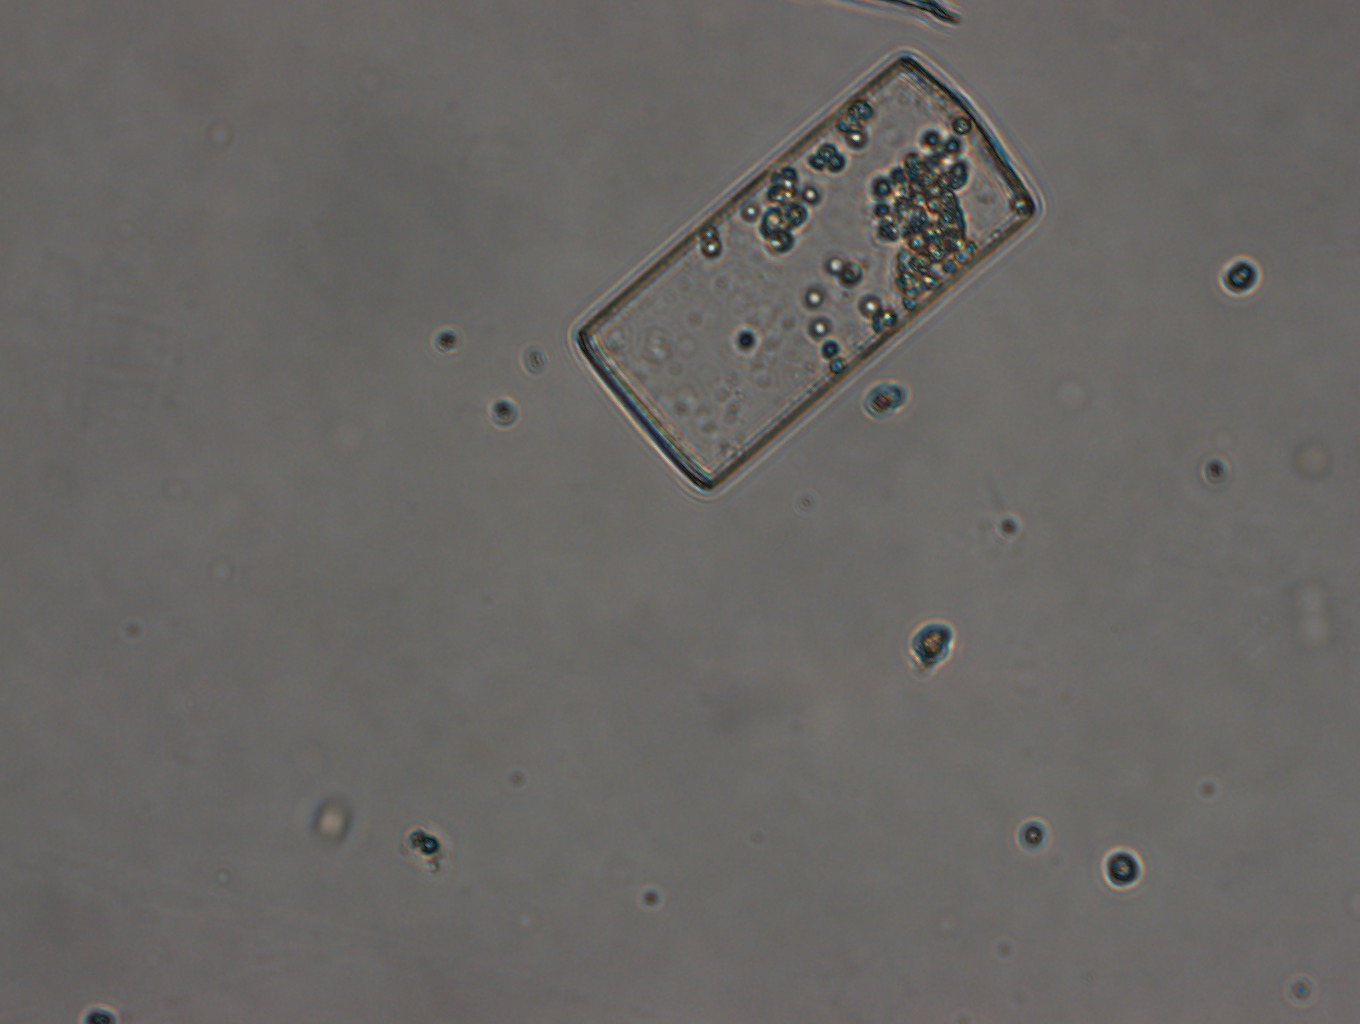guinardia flaccida: (571, 51, 1054, 494)
